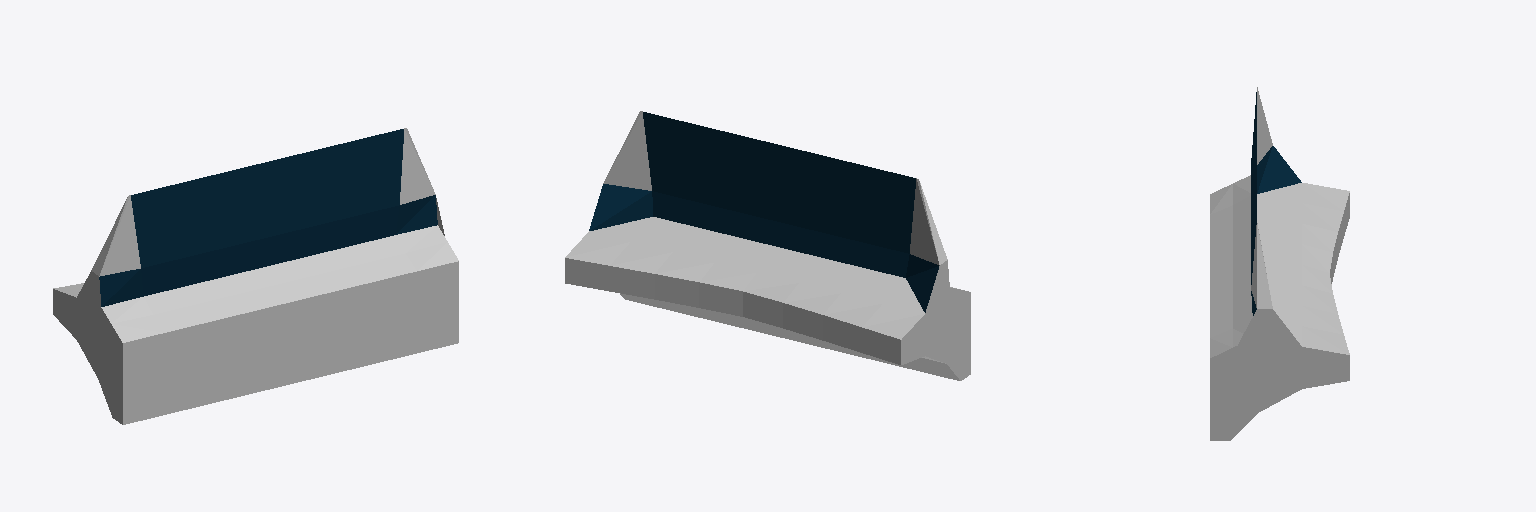
File: Bridge_Desk.obj
The picture shows the model from 3 angles: view 1: azimuth 30°, elevation 25°; view 2: azimuth 150°, elevation 25°; view 3: azimuth 270°, elevation 25°; orthographic projection.
Visible parts, largest first — view 1: default; view 2: default; view 3: default.
Boxes of the visible parts, x1=… form: default: x1=53, y1=128, x2=458, y2=424; default: x1=565, y1=111, x2=970, y2=380; default: x1=1210, y1=87, x2=1349, y2=440.
Size of the model in its own units: 26.43 by 15.41 by 9.53.